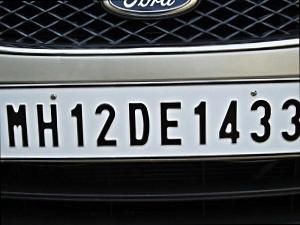plate: (7, 79, 299, 169)
